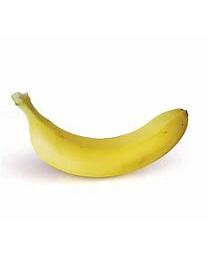banana: (10, 86, 192, 179)
